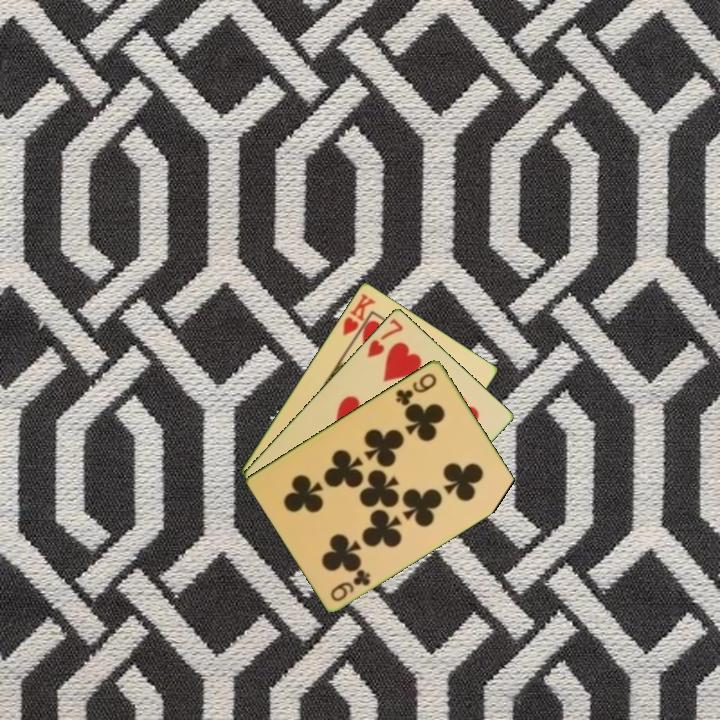7h: (363, 314, 406, 360)
9c: (392, 369, 440, 408), (327, 565, 373, 604)
Kh: (339, 290, 379, 345)
